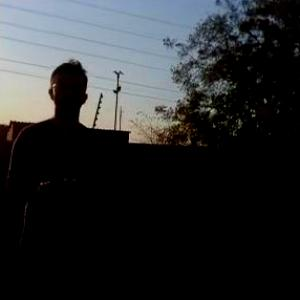follow: (0, 55, 114, 299)
